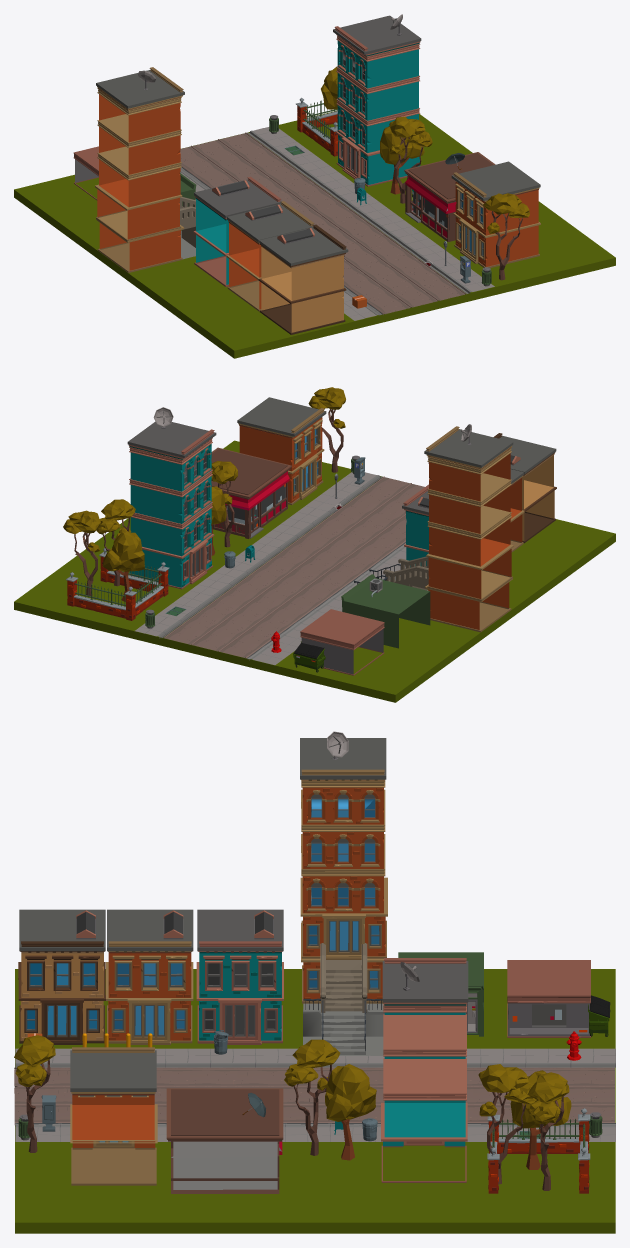
The model's file is House Area 5.fbx.
The picture shows the model from 3 angles, top to bottom: view 1: azimuth 30°, elevation 25°; view 2: azimuth 150°, elevation 25°; view 3: azimuth 270°, elevation 25°; orthographic projection. The views are drawn at different scales.
Visible parts, largest first — view 1: Plane.005, SM_Bld_Apartment_Roof_02.016, SM_Env_Path_Straight_01.003, SM_Bld_Apartment_03.007, SM_Bld_Apartment_Roof_02.018, SM_Env_Sidewalk_Straight_01.008, SM_Bld_Apartment_Roof_02.028, SM_Bld_Apartment_Roof_02.022, SM_Bld_Apartment_Roof_02.024, SM_Bld_Shop_Corner_01.002, SM_Env_Fence_End_01.009, SM_Env_Tree_02.029 (+4 smaller); view 2: Plane.005, SM_Bld_Apartment_Roof_02.016, SM_Env_Path_Straight_01.003, SM_Bld_Apartment_03.007, SM_Env_Sidewalk_Straight_01.008, SM_Bld_Apartment_Roof_02.028, SM_Bld_Shop_Corner_01.002, SM_Bld_Shop_02.001, SM_Bld_Shop_05.001, SM_Bld_Apartment_Roof_02.018, SM_Env_Fence_End_01.009, SM_Bld_Apartment_Roof_02.022 (+9 smaller); view 3: Plane.005, SM_Bld_Apartment_Roof_02.016, SM_Bld_Apartment_03.007, SM_Bld_Apartment_Roof_02.028, SM_Bld_Shop_Corner_01.002, SM_Env_Path_Straight_01.003, SM_Env_Sidewalk_Straight_01.008, SM_Bld_Apartment_Roof_02.024, SM_Bld_Apartment_Roof_02.022, SM_Bld_Apartment_Roof_02.018, SM_Bld_Shop_05.001, SM_Env_Fence_End_01.009 (+8 smaller).
Boxes of the visible parts, x1,y1,x2,y2 form: Plane.005: (14,110,615,358); SM_Bld_Apartment_Roof_02.016: (95,67,195,272); SM_Env_Path_Straight_01.003: (180,132,466,315); SM_Bld_Apartment_03.007: (333,15,421,186); SM_Bld_Apartment_Roof_02.018: (258,224,348,334); SM_Env_Sidewalk_Straight_01.008: (180,127,494,320); SM_Bld_Apartment_Roof_02.028: (451,161,540,267); SM_Bld_Apartment_Roof_02.022: (193,176,281,286); SM_Bld_Apartment_Roof_02.024: (226,201,314,311); SM_Bld_Shop_Corner_01.002: (404,152,495,241); SM_Env_Fence_End_01.009: (296,97,338,156); SM_Env_Tree_02.029: (483,193,529,280); Plane.005: (14,440,615,702); SM_Bld_Apartment_Roof_02.016: (354,426,513,632); SM_Env_Path_Straight_01.003: (164,476,424,658); SM_Bld_Apartment_03.007: (127,421,216,589); SM_Env_Sidewalk_Straight_01.008: (135,457,406,665); SM_Bld_Apartment_Roof_02.028: (237,397,326,504); SM_Bld_Shop_Corner_01.002: (211,447,291,538); SM_Bld_Shop_02.001: (341,574,430,648); SM_Bld_Shop_05.001: (300,609,384,675); SM_Bld_Apartment_Roof_02.018: (493,433,556,543); SM_Env_Fence_End_01.009: (66,548,169,620); SM_Bld_Apartment_Roof_02.022: (402,484,429,567); Plane.005: (15,969,615,1233); SM_Bld_Apartment_Roof_02.016: (300,738,387,1055); SM_Bld_Apartment_03.007: (381,958,468,1182); SM_Bld_Apartment_Roof_02.028: (70,1047,157,1185); SM_Bld_Shop_Corner_01.002: (166,1088,283,1193); SM_Env_Path_Straight_01.003: (14,1067,614,1124); SM_Env_Sidewalk_Straight_01.008: (15,1031,615,1141); SM_Bld_Apartment_Roof_02.024: (106,909,193,1044); SM_Bld_Apartment_Roof_02.022: (196,909,283,1044); SM_Bld_Apartment_Roof_02.018: (18,909,105,1044); SM_Bld_Shop_05.001: (507,960,590,1037); SM_Env_Fence_End_01.009: (487,1108,590,1193).
Bounding box in the file's own units: 10070 × 4902 × 10024.
